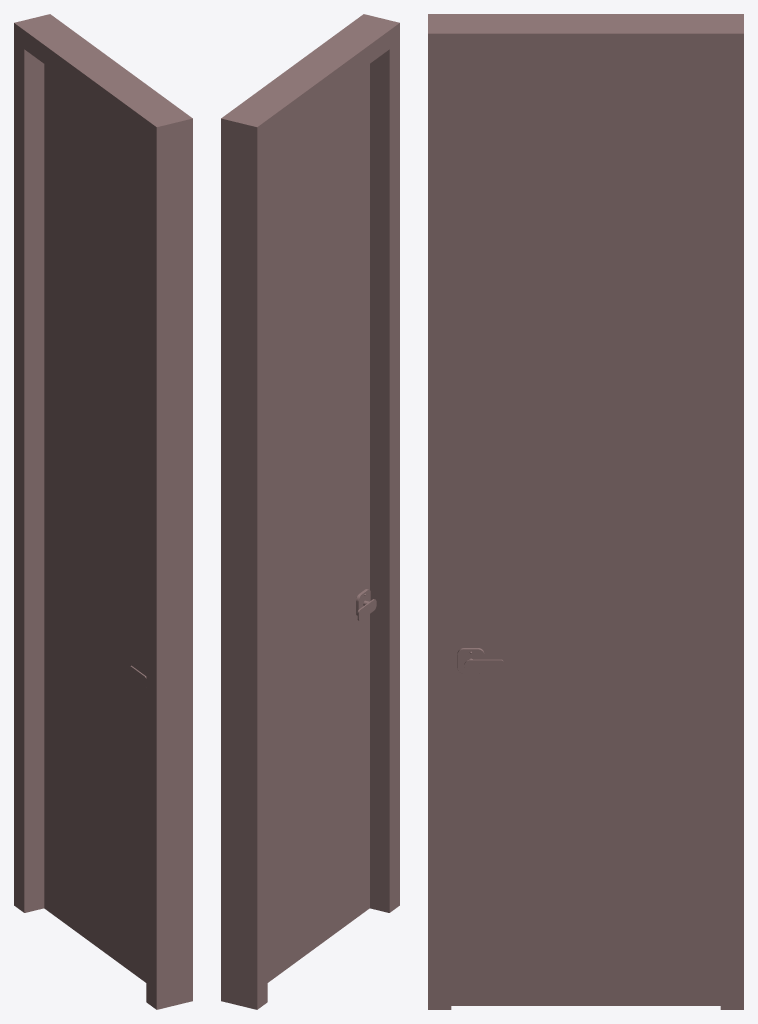
Rendered from DoorRight_low.fbx.
3 renders of one model, left to right at view 1: azimuth 30°, elevation 25°; view 2: azimuth 150°, elevation 25°; view 3: azimuth 270°, elevation 25°, orthographic. The views are drawn at different scales.
Visible parts, largest first — view 1: Door (×2); view 2: Door (×2); view 3: Door (×2).
Boxes of the visible parts, <box> form: Door (×2): <box>14,14,192,1009</box>; Door (×2): <box>221,14,399,1009</box>; Door (×2): <box>428,14,743,1009</box>.
Size of the model in its own units: 5.27 by 110 by 32.28.
